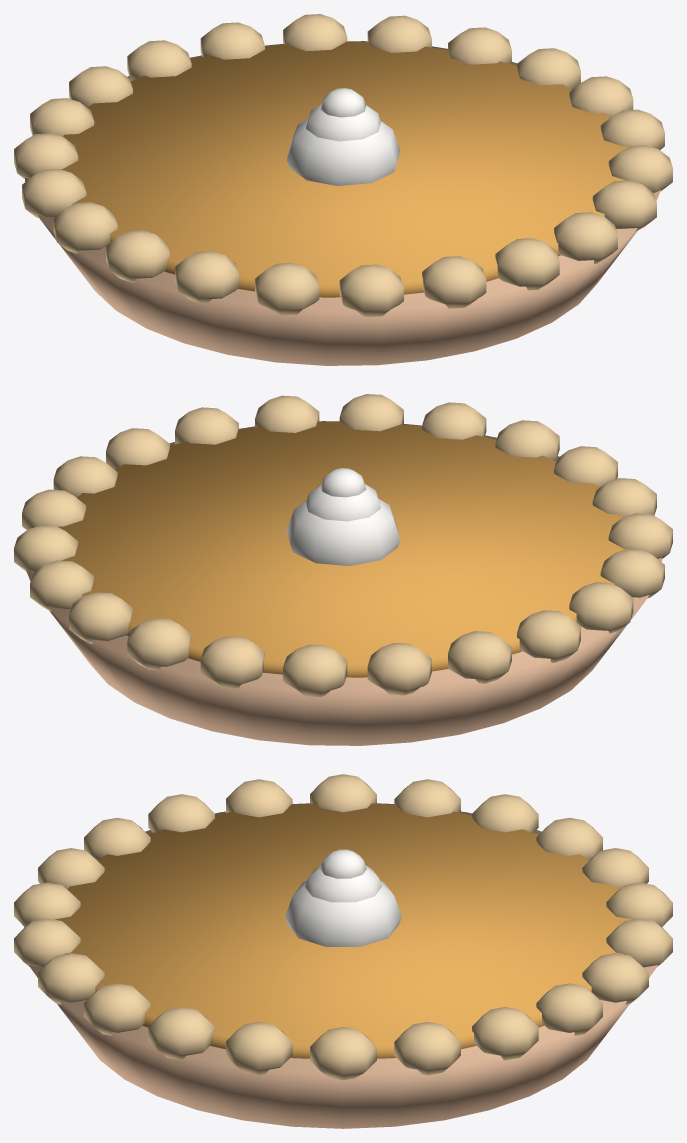
File: pumpkin-pie.glb
3 views of the same model, one above another, from view 1: azimuth 30°, elevation 25°; view 2: azimuth 150°, elevation 25°; view 3: azimuth 270°, elevation 25° (orthographic).
Parts seen in each view (by area): view 1: filling, crust, dish, cream; view 2: filling, crust, dish, cream; view 3: filling, crust, dish, cream.
Part boxes in pixels (<box>): filling: <box>61,41,628,297</box>; crust: <box>14,14,672,316</box>; dish: <box>25,41,660,365</box>; cream: <box>286,88,400,185</box>; filling: <box>58,421,625,677</box>; crust: <box>14,394,672,696</box>; dish: <box>26,421,661,745</box>; cream: <box>286,468,400,565</box>; filling: <box>55,803,631,1058</box>; crust: <box>14,774,672,1080</box>; dish: <box>24,803,662,1128</box>; cream: <box>285,849,401,946</box>.
Bounding box in the file's own units: 0.2274 × 0.0624 × 0.2253.
